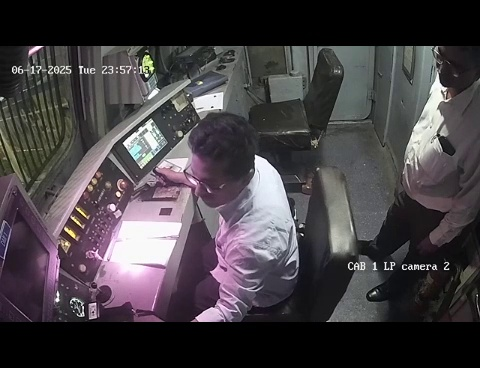horn_inactive: (74, 268, 124, 314)
